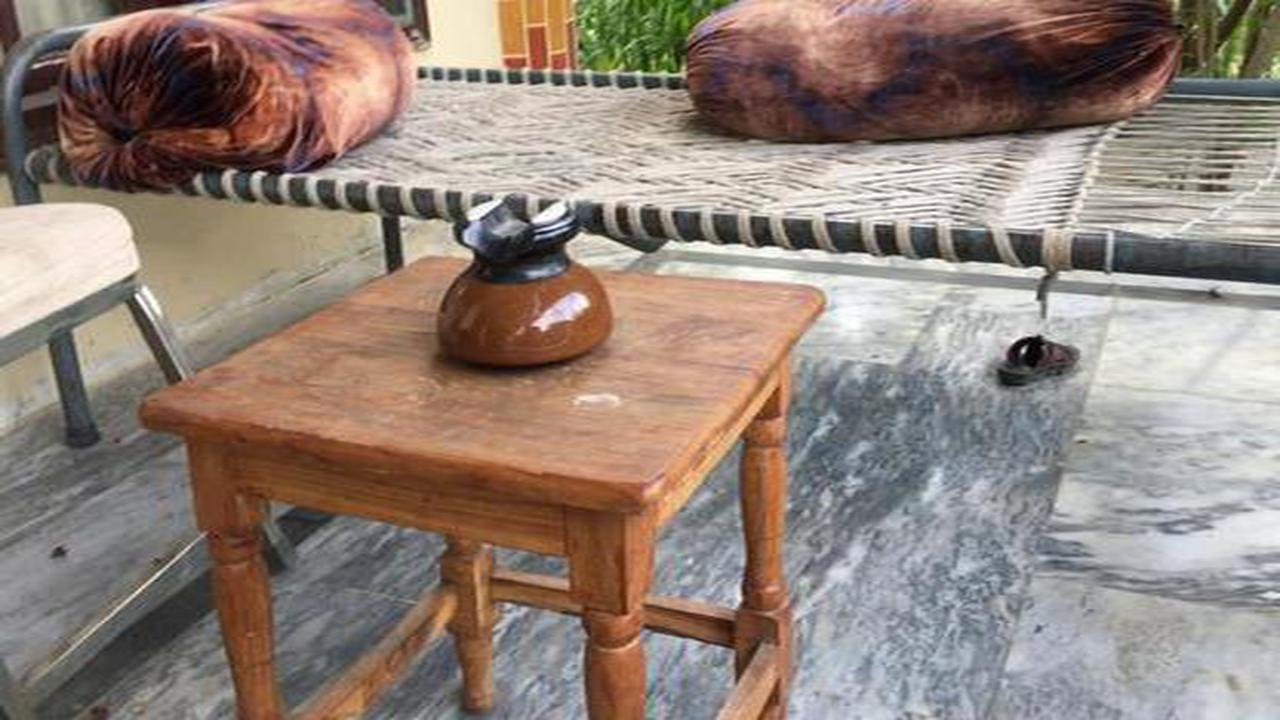insulator_pin: (425, 182, 631, 373)
